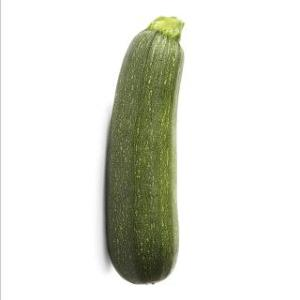zucchini: (104, 13, 186, 298)
